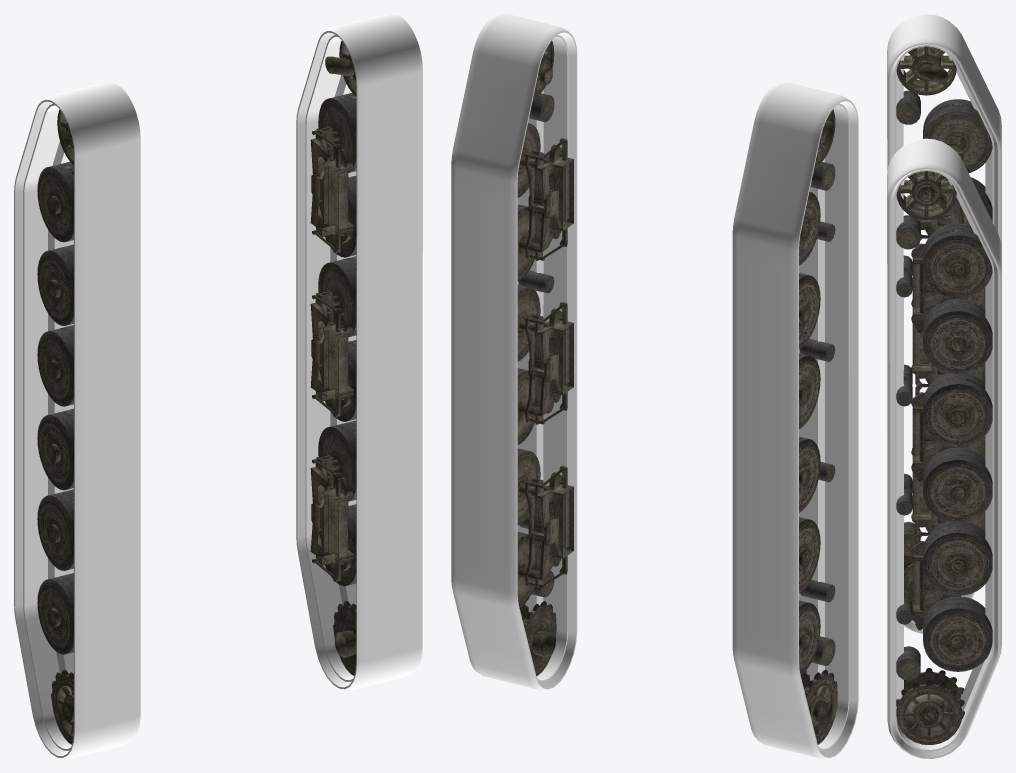
The model's file is Chassis.glb.
3 views of the same model, side by side, from view 1: azimuth 30°, elevation 25°; view 2: azimuth 150°, elevation 25°; view 3: azimuth 270°, elevation 25° (orthographic). The views are drawn at different scales.
Parts seen in each view (by area): view 1: set_0_group_0, set_1_group_0, set_3_group_0, set_2_group_0; view 2: set_0_group_0, set_1_group_0, set_3_group_0, set_2_group_0; view 3: set_3_group_0, set_1_group_0, set_2_group_0, set_0_group_0.
Part boxes in pixels (bbox=[...]): set_0_group_0: bbox=[14, 83, 140, 758]; set_1_group_0: bbox=[296, 14, 422, 689]; set_3_group_0: bbox=[310, 41, 356, 675]; set_2_group_0: bbox=[37, 109, 73, 744]; set_0_group_0: bbox=[732, 82, 858, 758]; set_1_group_0: bbox=[451, 14, 577, 690]; set_3_group_0: bbox=[517, 40, 573, 676]; set_2_group_0: bbox=[799, 109, 837, 744]; set_3_group_0: bbox=[896, 171, 992, 745]; set_1_group_0: bbox=[887, 138, 1001, 758]; set_2_group_0: bbox=[896, 46, 992, 604]; set_0_group_0: bbox=[887, 14, 1001, 633].
Size of the model in its own units: 3.66 by 6.62 by 1.16.
Materials: 4 (2 with a texture image).
